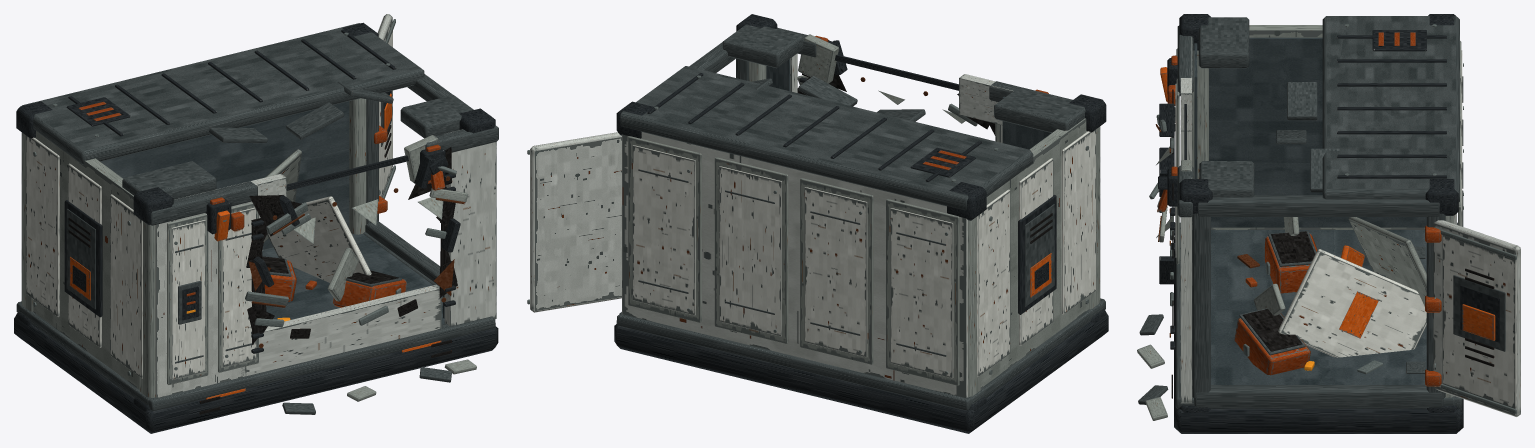
Rendered from OrangeBoxRansacked.glb.
3 views of the same model, side by side, from view 1: azimuth 30°, elevation 25°; view 2: azimuth 150°, elevation 25°; view 3: azimuth 270°, elevation 25° (orthographic). The views are drawn at different scales.
Visible parts, largest first — view 1: OrangeBox_Ransacked; view 2: OrangeBox_Ransacked; view 3: OrangeBox_Ransacked.
Boxes of the visible parts, <box> form: OrangeBox_Ransacked: <box>14,14,498,433</box>; OrangeBox_Ransacked: <box>527,14,1108,433</box>; OrangeBox_Ransacked: <box>1137,14,1520,433</box>.
Bounding box in the file's own units: 6.88 × 3.8 × 5.31.
1 material, 1 textured.
